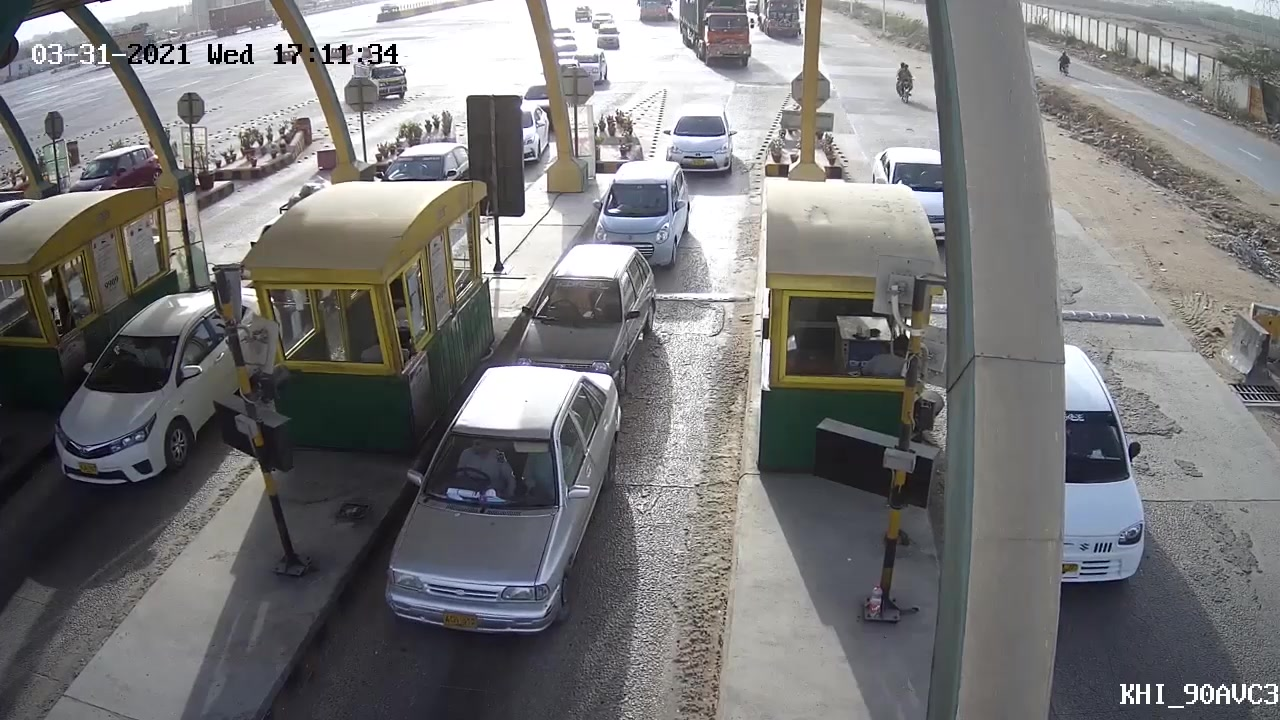F1: (387, 368, 616, 660), (510, 241, 661, 384), (590, 161, 697, 273), (662, 96, 740, 189)
